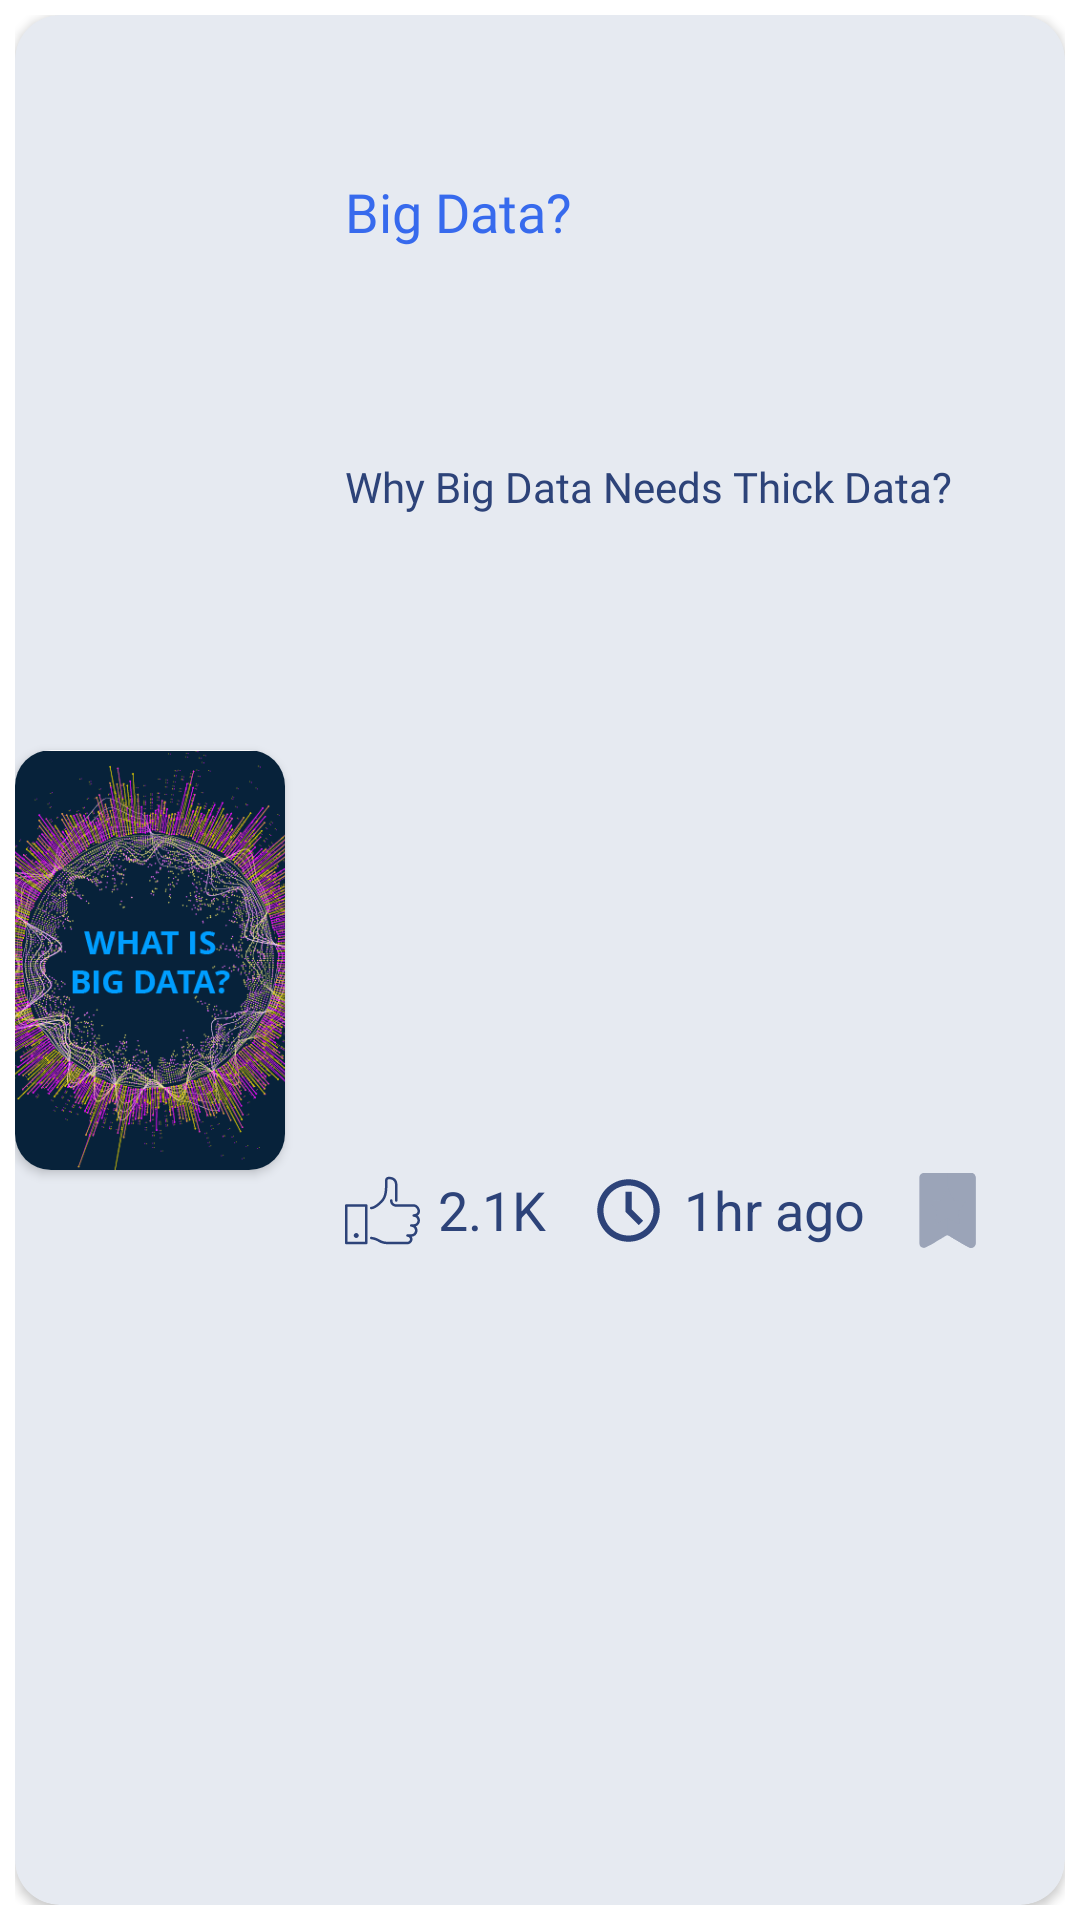

Point at icon controls on the screen. Image size 1080px x 1920px, points as [x,y].
bookmark state: [947,1210]
clock: [628,1210]
like: [382,1210]
